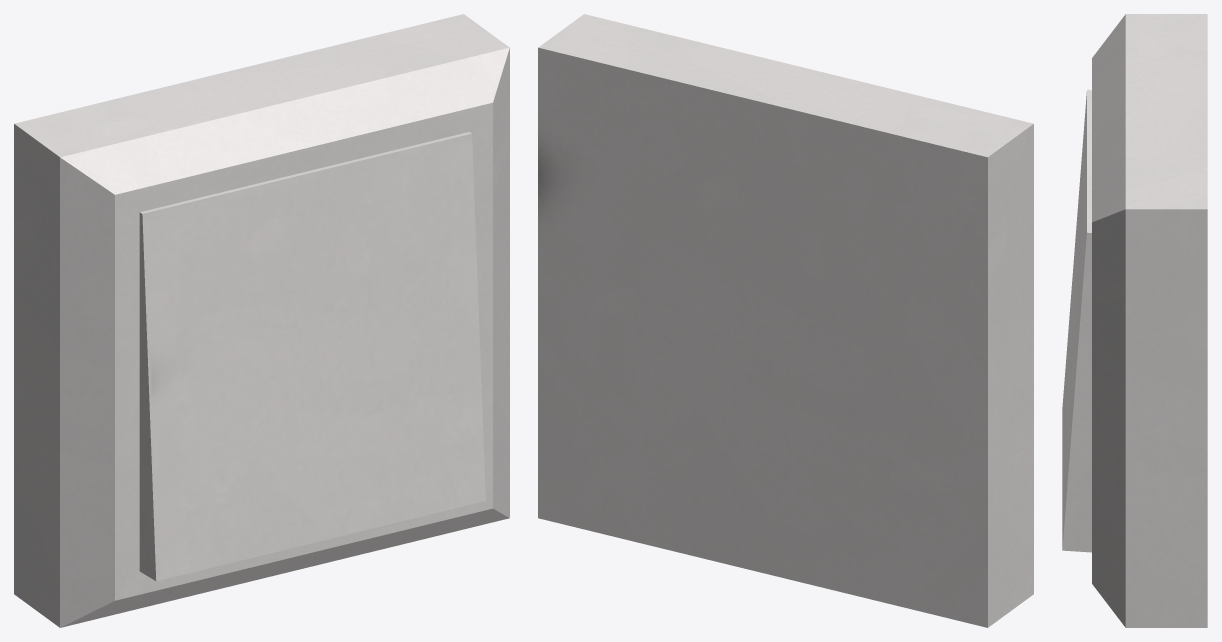
Rendered from SingleLightSwitch.gltf.
The picture shows the model from 3 angles, left to right: view 1: azimuth 30°, elevation 25°; view 2: azimuth 150°, elevation 25°; view 3: azimuth 270°, elevation 25°; orthographic projection. The views are drawn at different scales.
Visible parts, largest first — view 1: switch_body, switch; view 2: switch_body; view 3: switch_body, switch.
Boxes of the visible parts, box(x1,y1,x2,y2) form: switch_body: box(14, 14, 509, 627); switch: box(139, 132, 485, 581); switch_body: box(538, 14, 1033, 627); switch_body: box(1092, 14, 1207, 627); switch: box(1062, 89, 1091, 552).
Bounding box in the file's own units: 0.12 × 0.12 × 0.0377.
1 material, 1 textured.
